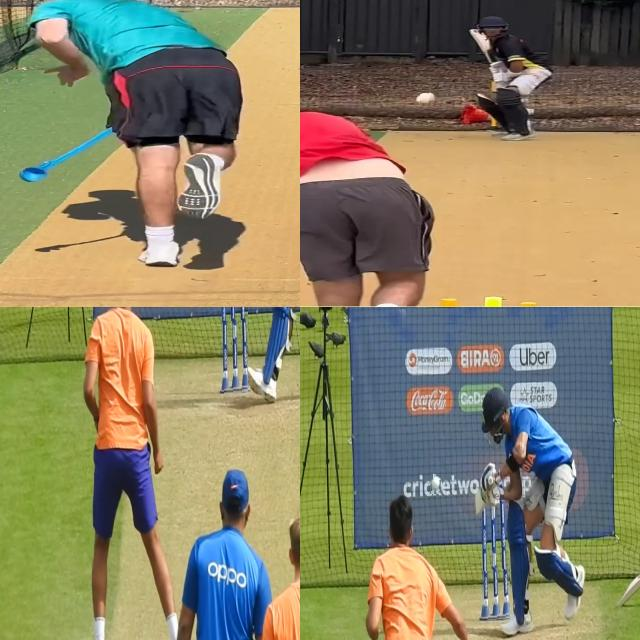Cricket ball: (415, 92, 437, 106), (430, 474, 443, 494)
Stumps: (482, 503, 510, 621), (218, 307, 248, 395)
